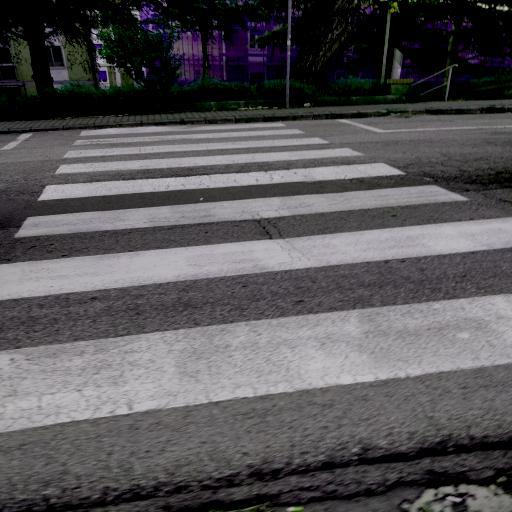crosswalk: (2, 158, 474, 244)
